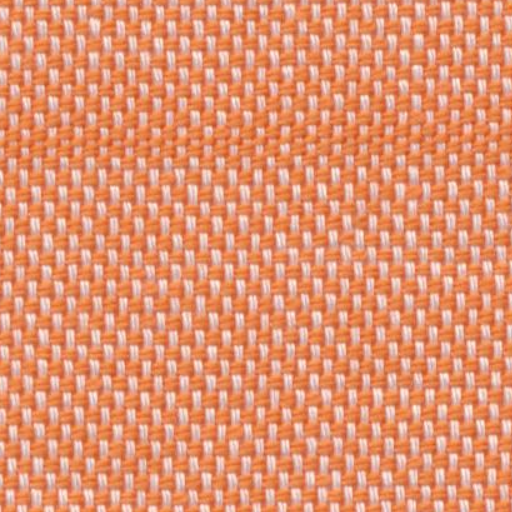TuoSha: (17, 94, 492, 190)
